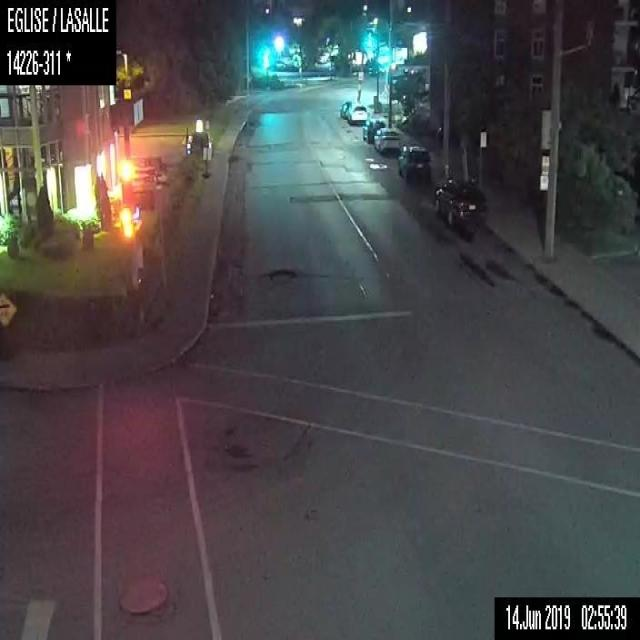vehicle: (433, 178, 488, 230), (396, 142, 430, 184), (372, 125, 399, 153), (362, 116, 383, 138), (346, 102, 367, 122), (339, 100, 355, 118)
